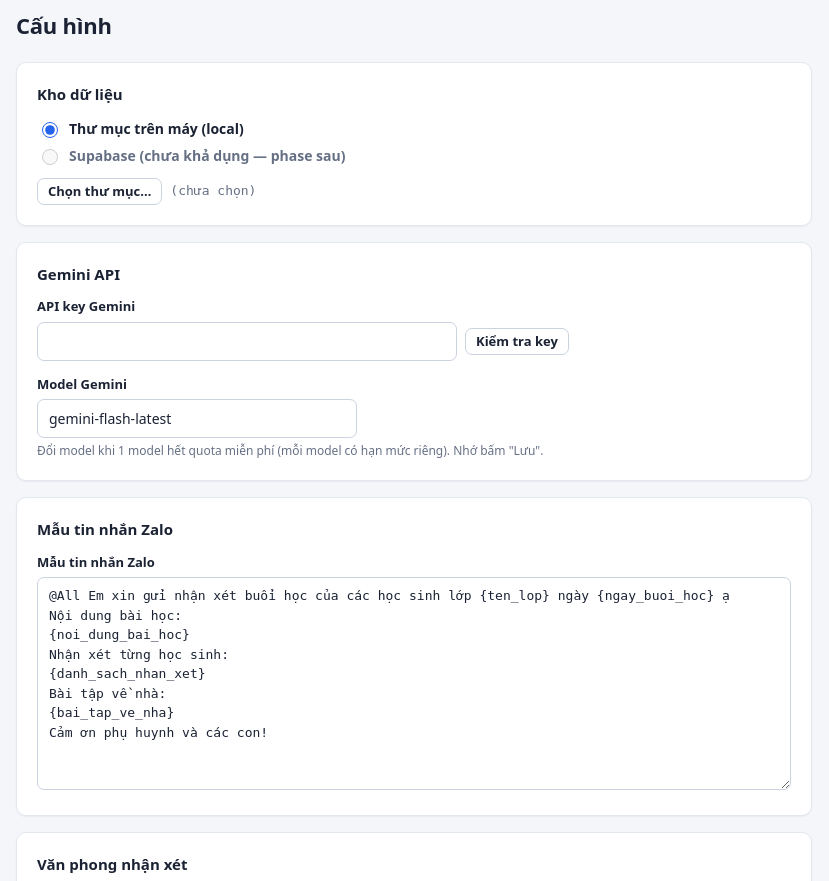
Scenario: SettingsPage › bấm "Chọn thư mục" cập nhật đường dẫn hiển thị
Click the button "Chọn thư mục…". click: (100, 191)
box: [37, 178, 162, 204]
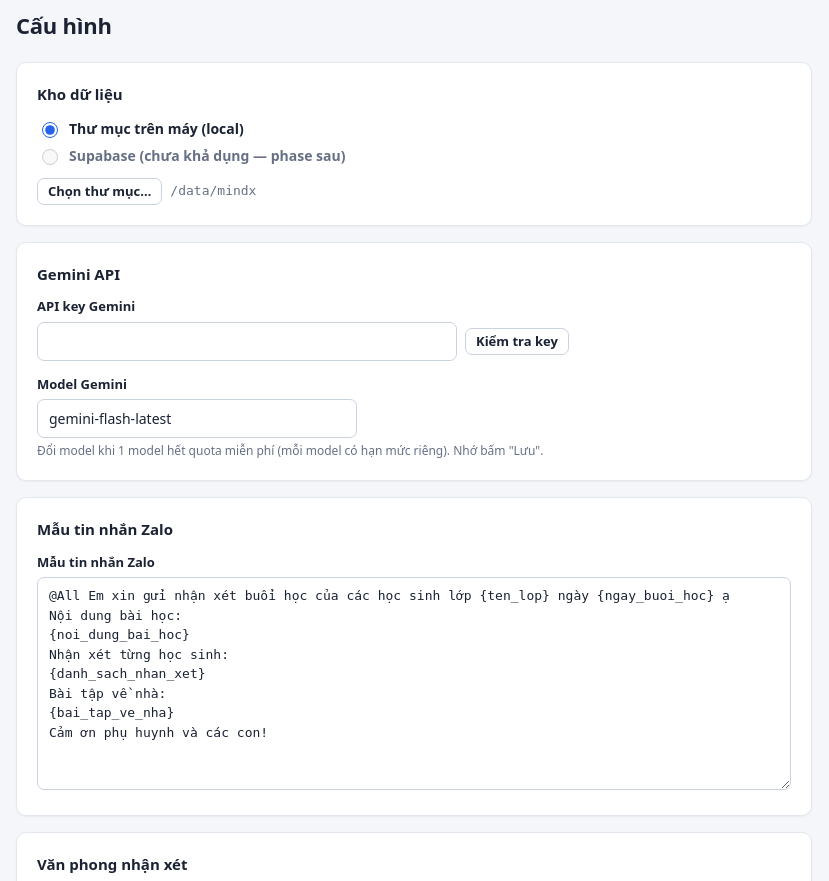
Expected: the text "/data/mindx" is shown, [170, 181, 256, 201]
